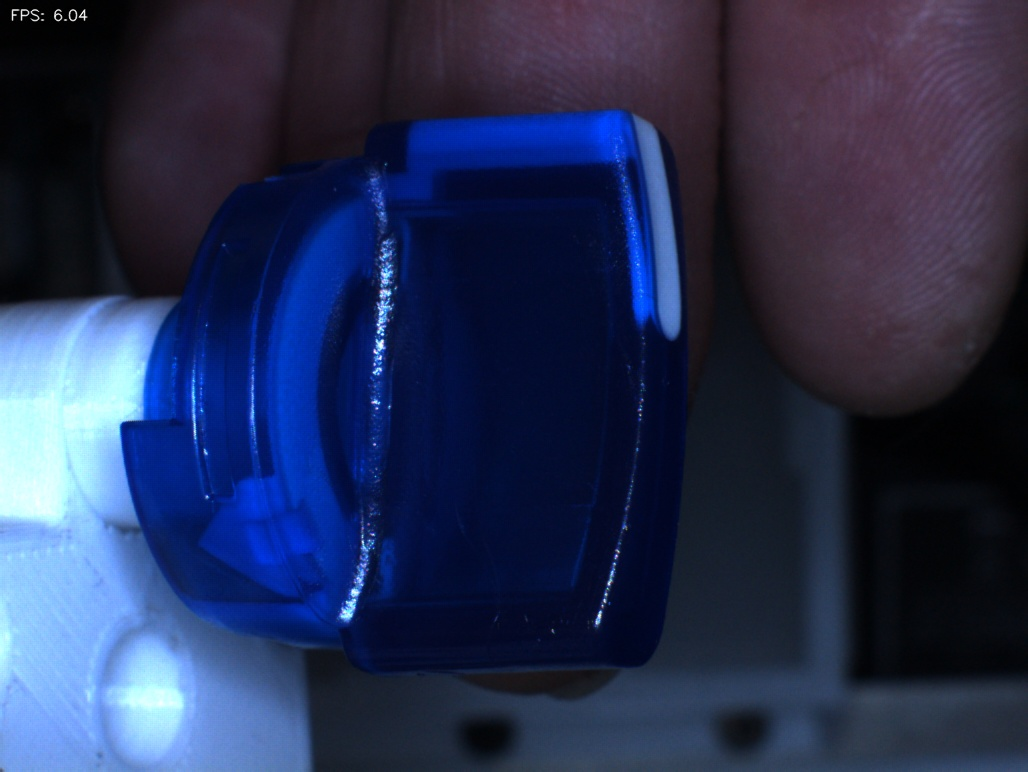Givrage: (428, 481, 518, 647)
